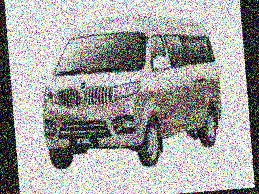van: (29, 3, 233, 173)
